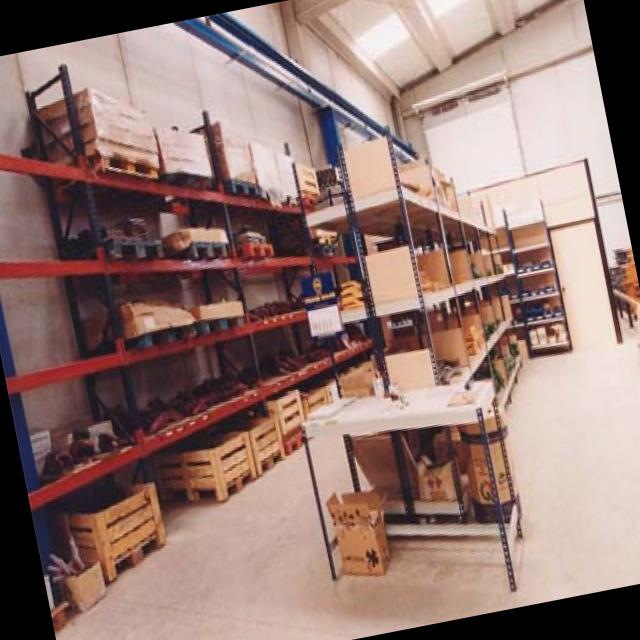box contants: (326, 487, 389, 572)
ceiling beam: (289, 0, 562, 98)
crate: (47, 480, 163, 579), (150, 427, 254, 503), (221, 417, 281, 474)
door bars: (549, 218, 615, 348)
floor -X: (45, 276, 640, 640)
merchandise: (36, 86, 160, 176), (79, 297, 195, 349), (153, 123, 213, 183), (210, 120, 260, 192)
shelves crop: (0, 293, 372, 612), (305, 124, 520, 512), (0, 60, 330, 232), (494, 198, 572, 358)
table -X: (301, 374, 519, 587)
wall clock: (0, 0, 447, 573), (394, 0, 635, 360)
